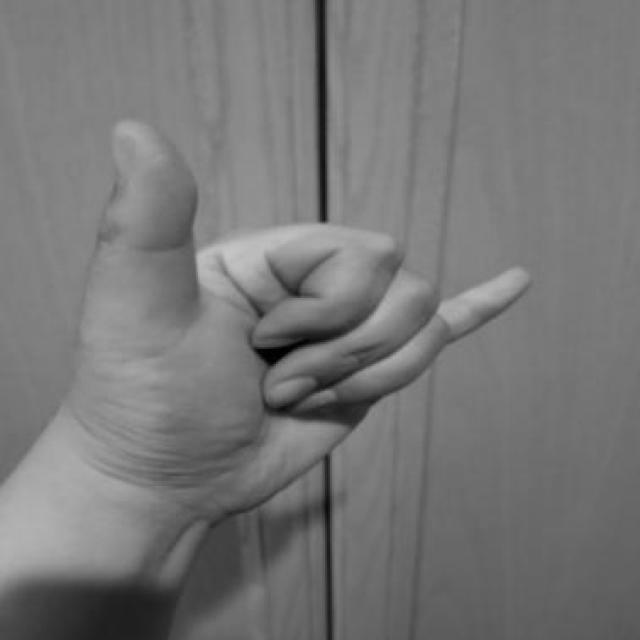Y: (57, 103, 543, 540)
